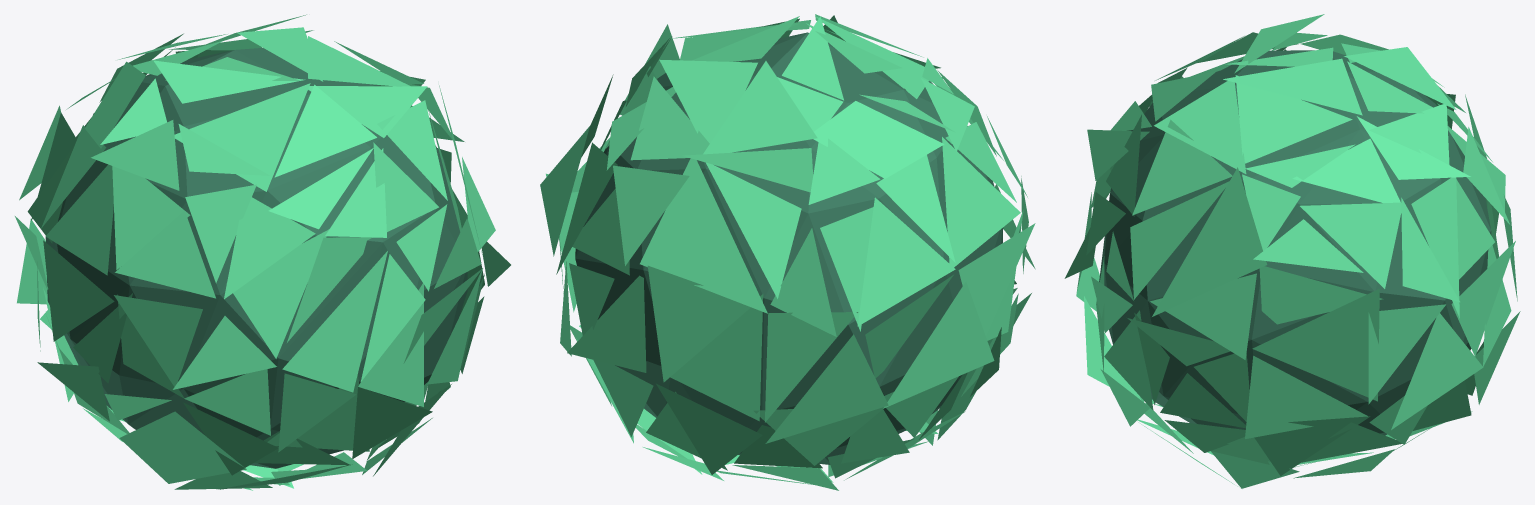
The model's file is Bush_01.fbx.
The picture shows the model from 3 angles, left to right: view 1: azimuth 30°, elevation 25°; view 2: azimuth 150°, elevation 25°; view 3: azimuth 270°, elevation 25°; orthographic projection. The views are drawn at different scales.
Visible parts, largest first — view 1: Cube.003; view 2: Cube.003; view 3: Cube.003.
Boxes of the visible parts, box(x1,y1,x2,y2) form: Cube.003: box(15, 14, 510, 490); Cube.003: box(540, 14, 1035, 490); Cube.003: box(1064, 14, 1520, 488).
Bounding box in the file's own units: 183 × 174 × 176.
